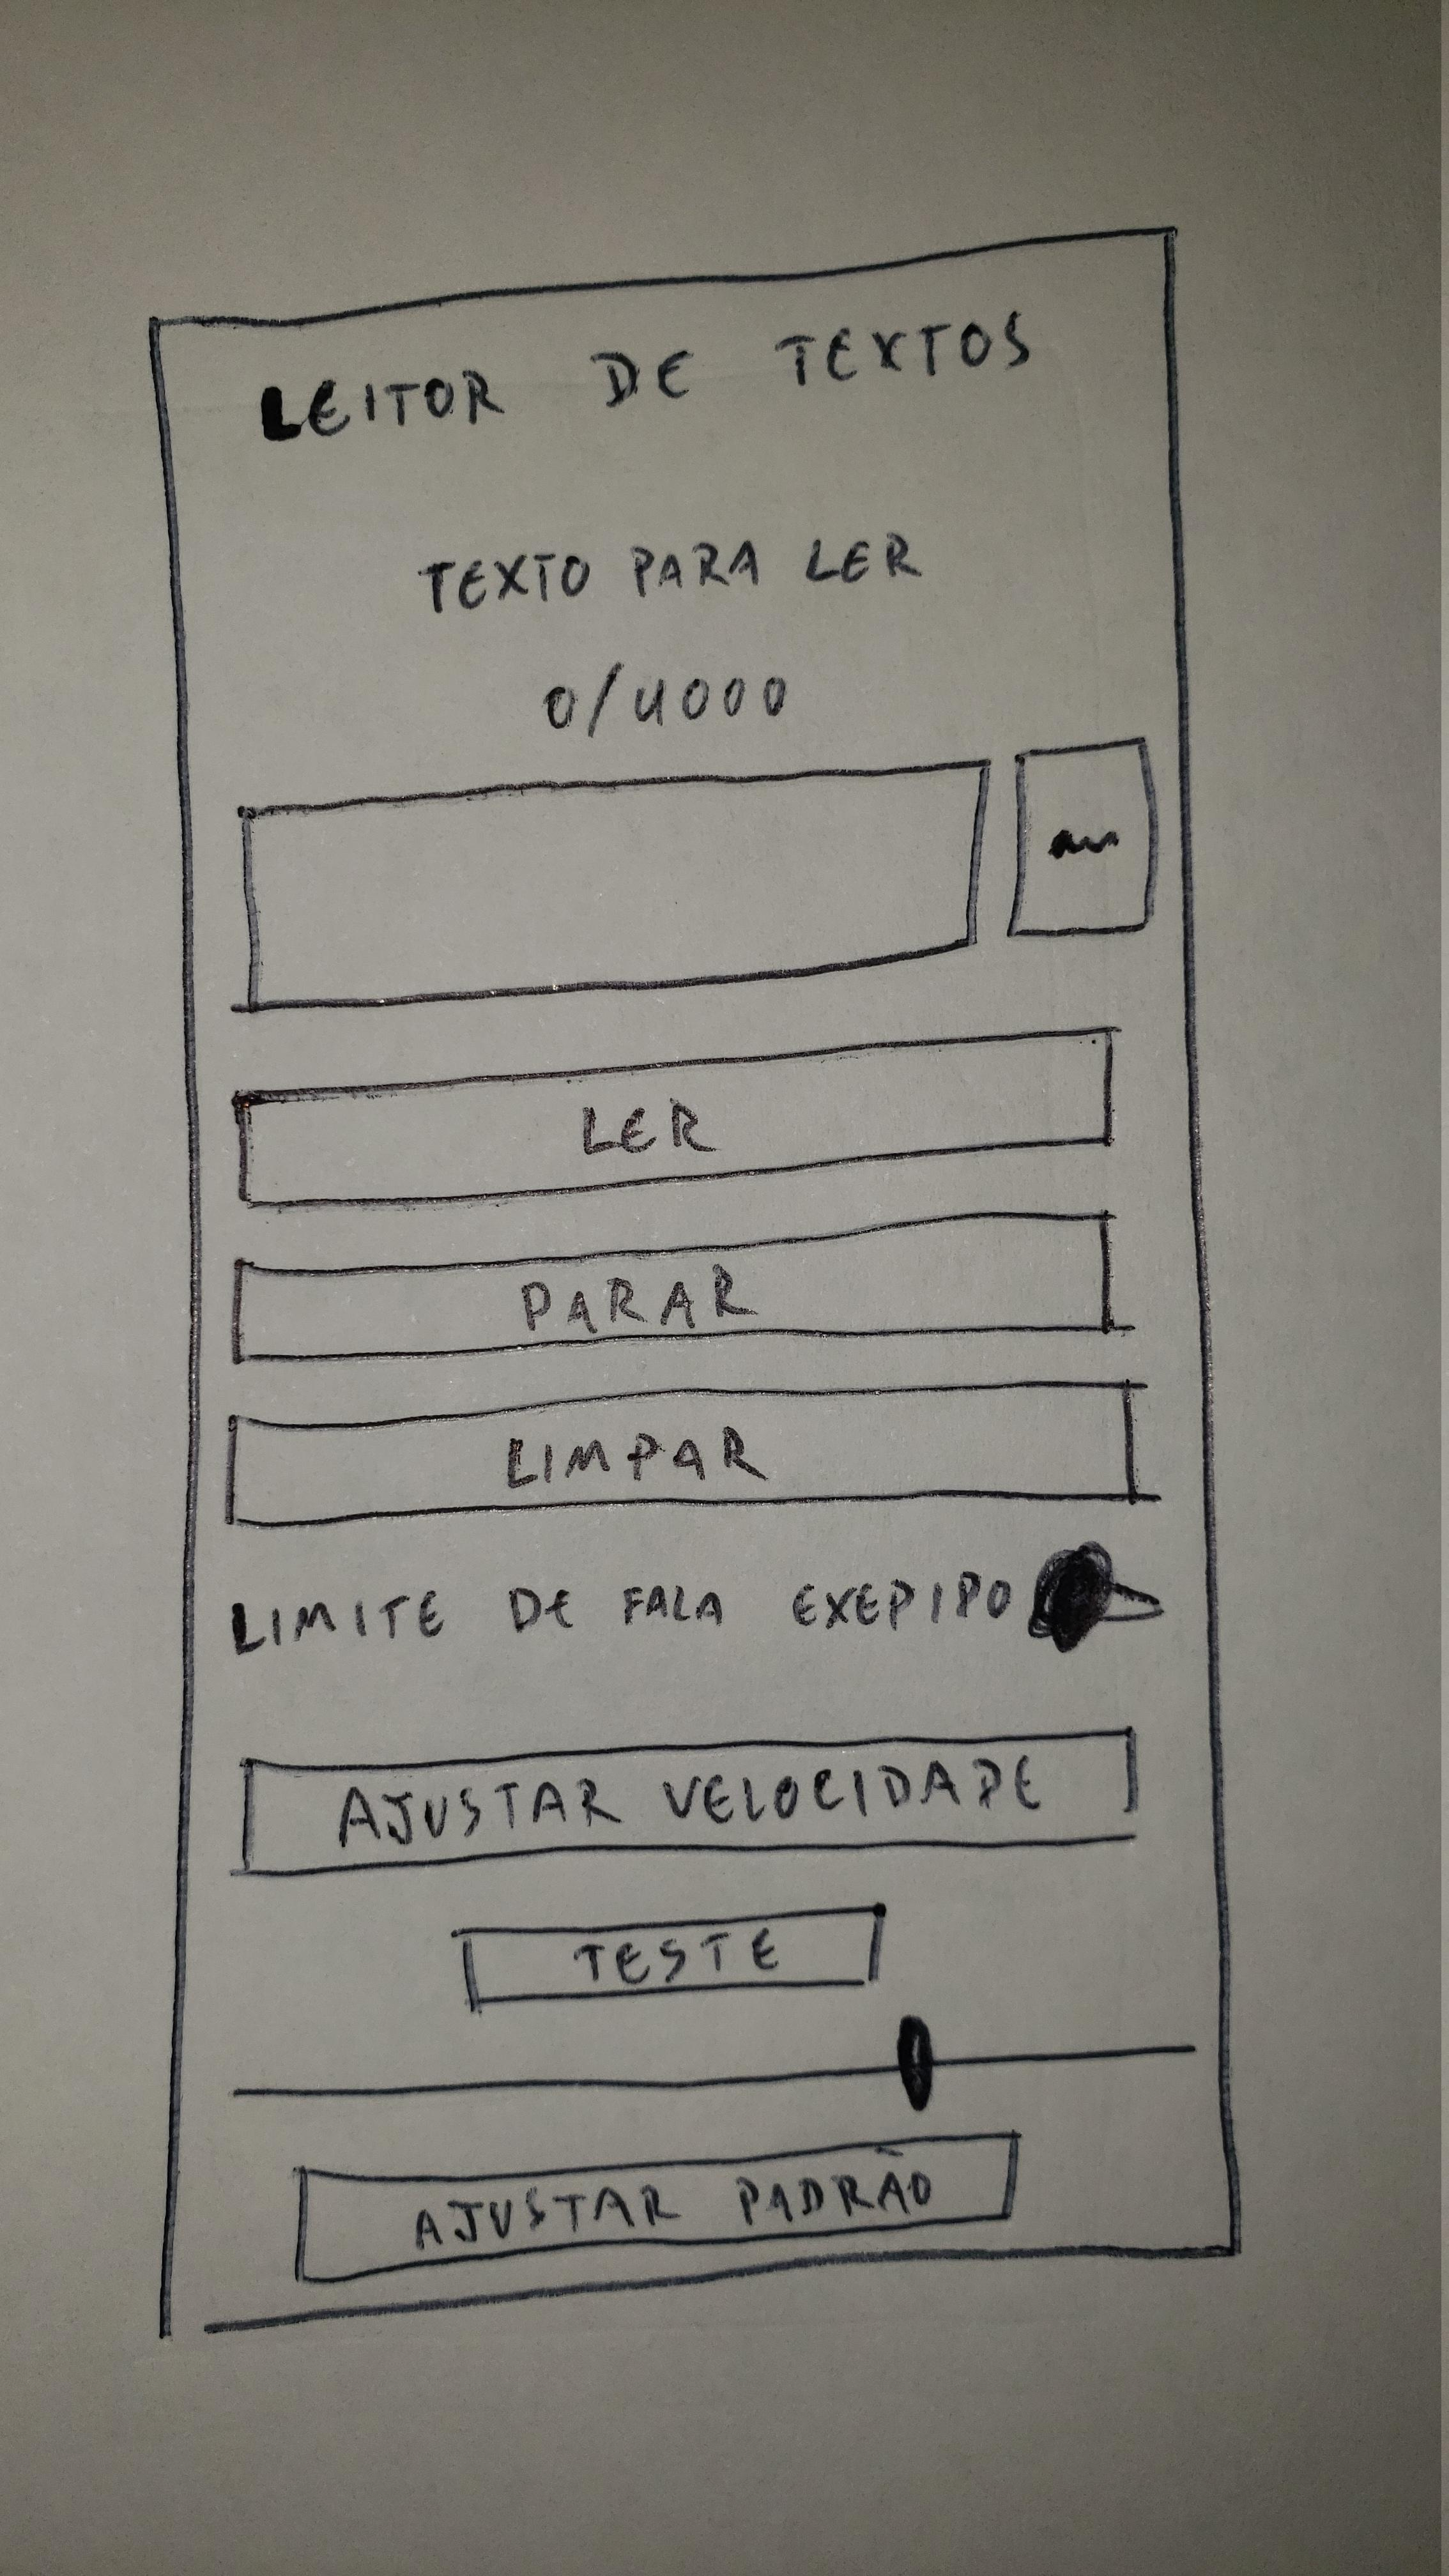Button: (238, 1023, 1119, 1211), (234, 1724, 1137, 1883), (222, 1379, 1139, 1532), (229, 1211, 1113, 1365), (293, 2129, 1019, 2285), (448, 1901, 885, 2011), (1005, 735, 1159, 939)
Label: (256, 312, 1033, 438), (414, 532, 923, 616), (540, 662, 788, 740)
Screen: (142, 224, 1241, 2339)
Slider: (233, 2013, 1195, 2115)
Switch: (229, 1540, 1161, 1654)
TextBox: (229, 758, 989, 1017)
